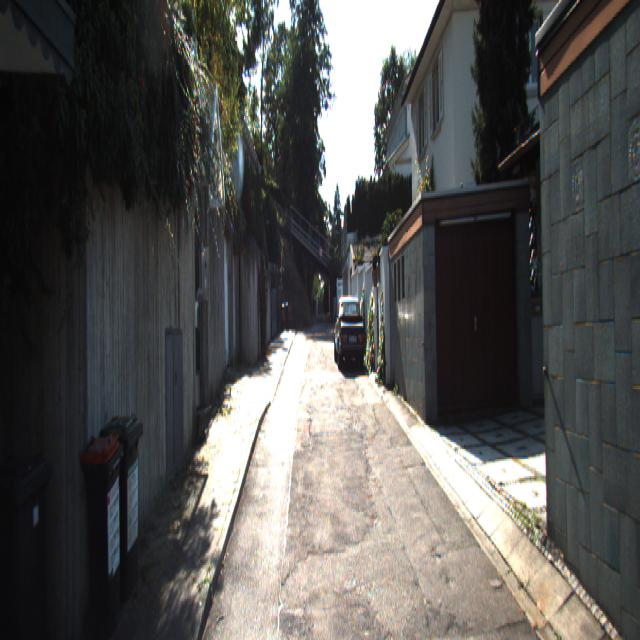Car: (333, 294, 366, 372)
